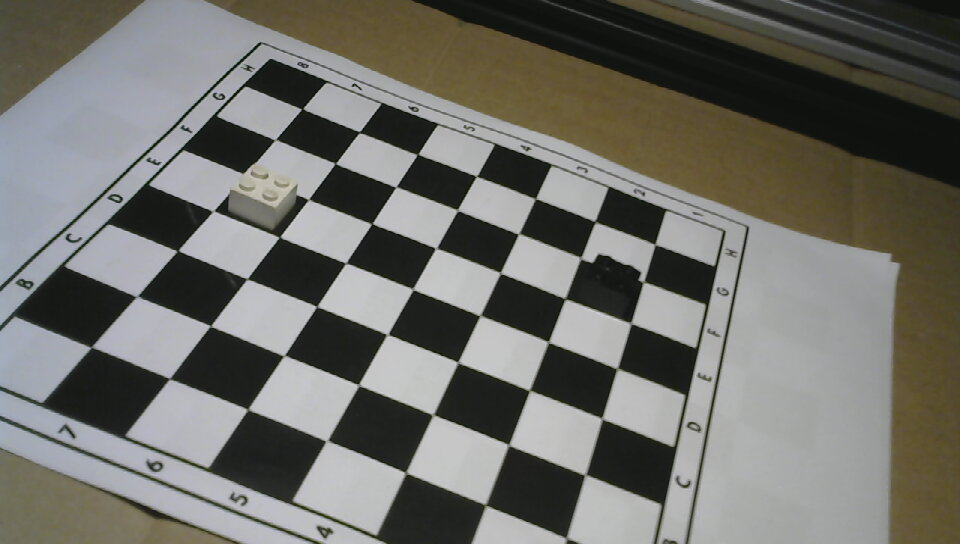bp: (572, 250, 643, 319)
